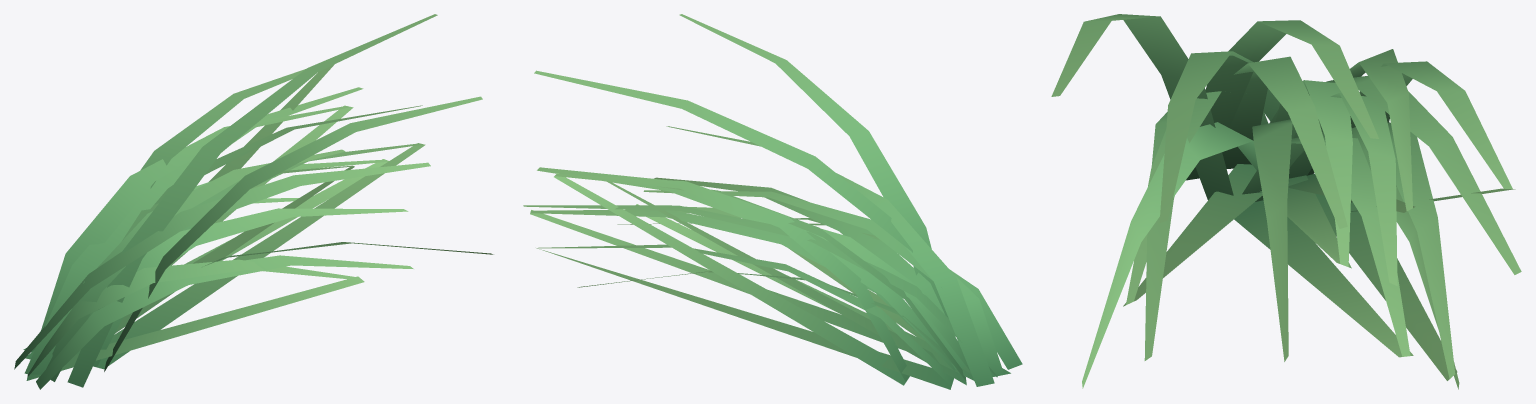
File: surfgrass.glb
The picture shows the model from 3 angles, left to right: view 1: azimuth 30°, elevation 25°; view 2: azimuth 150°, elevation 25°; view 3: azimuth 270°, elevation 25°; orthographic projection. The views are drawn at different scales.
Parts seen in each view (by area): view 1: surfgrass, surfgrass_lo; view 2: surfgrass, surfgrass_lo; view 3: surfgrass, surfgrass_lo.
Part boxes in pixels (x1,y1,x2,y2): surfgrass: [14, 14, 493, 389]; surfgrass_lo: [23, 64, 425, 380]; surfgrass: [523, 14, 1022, 386]; surfgrass_lo: [530, 173, 1010, 389]; surfgrass: [1051, 14, 1521, 389]; surfgrass_lo: [1123, 164, 1515, 380].
Size of the model in its own units: 0.8556 by 0.4166 by 0.4725.
